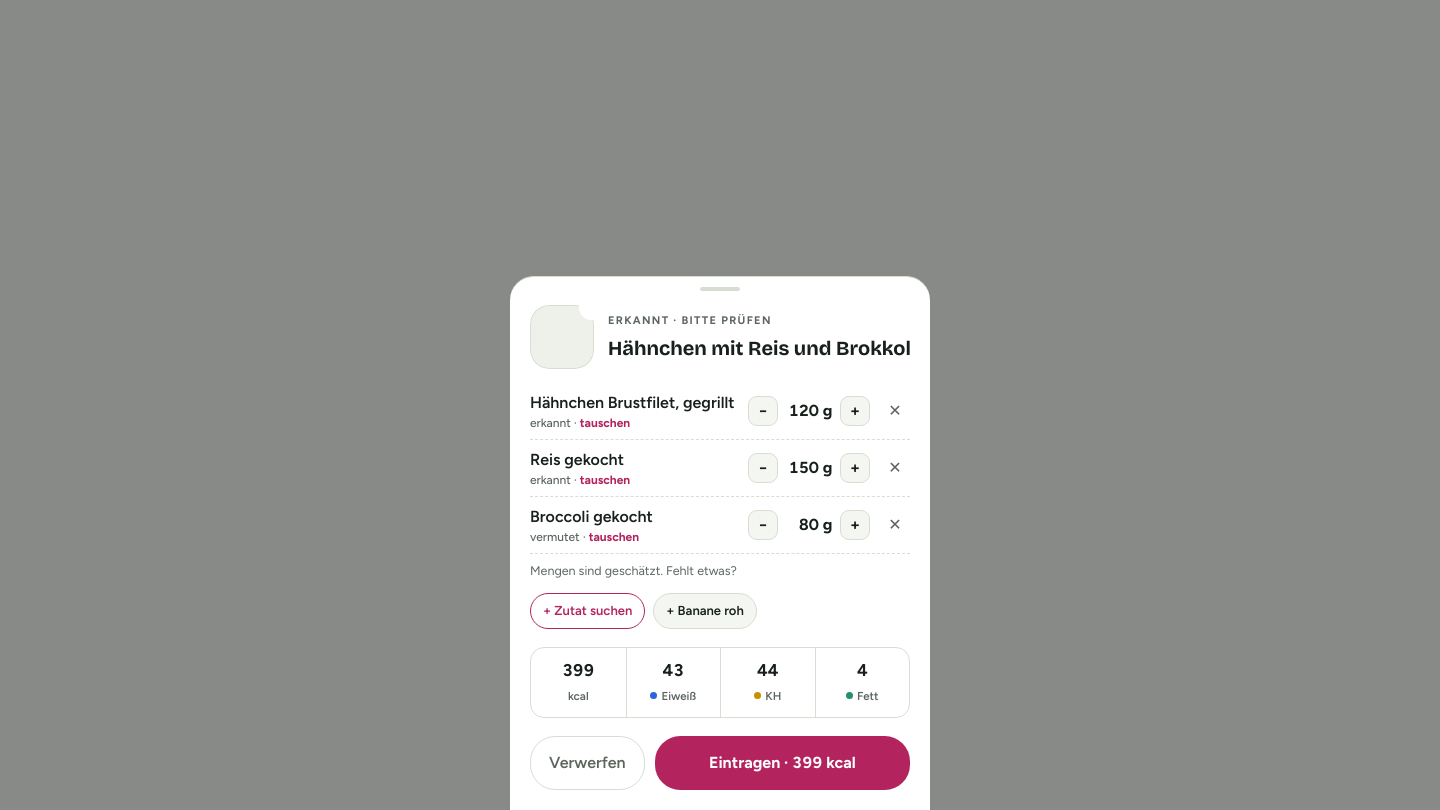
suggestions are the recent foods not yet on the plate; a tap adds one with its standard serving
This screenshot has width=1440, height=810.
Click the button "+ Banane roh". click: (705, 611)
box: [653,593,757,628]
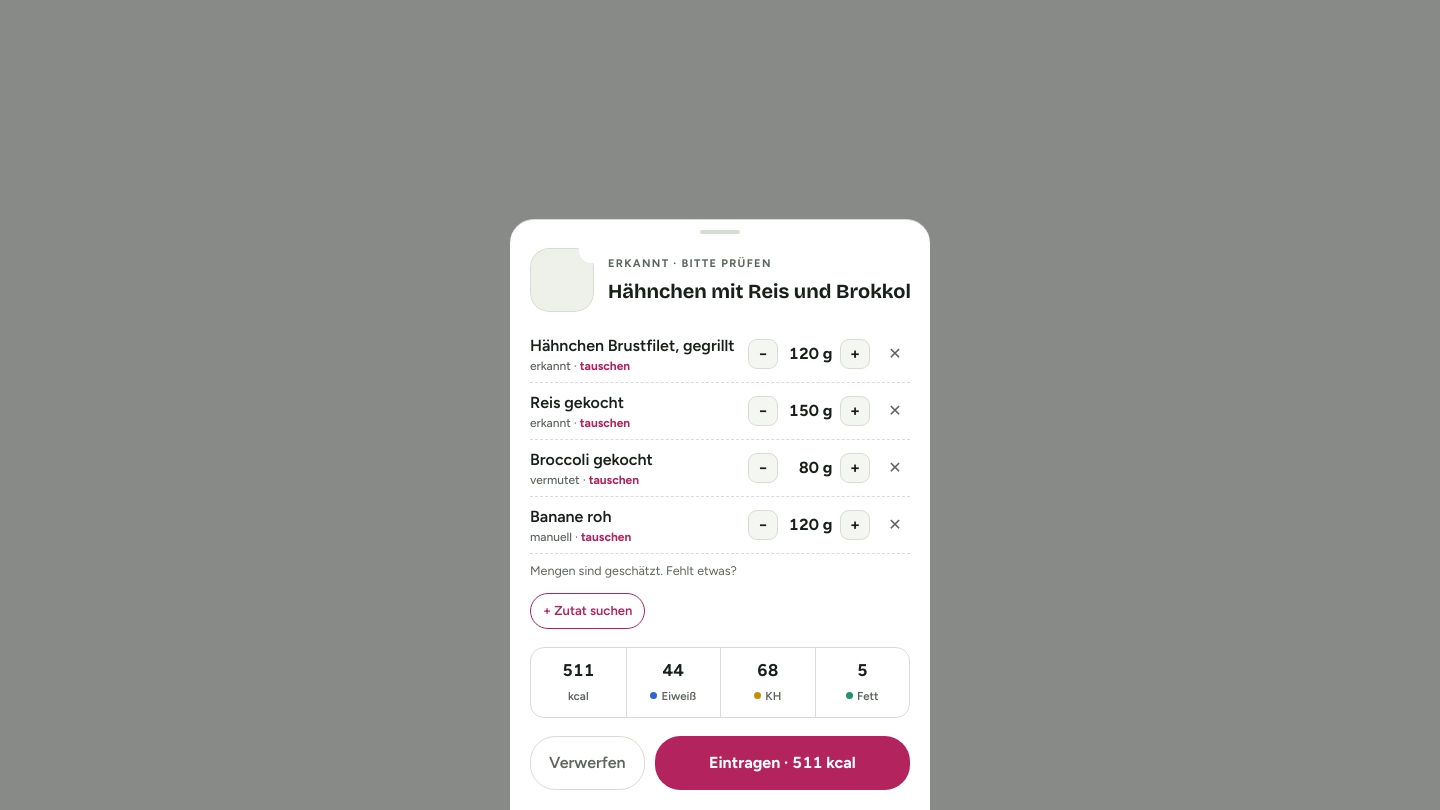
Check: the number field labelled "g" in the row of "Banane roh" holds "120", box [786,513,819,537]
Check: the text "manuell" is shown, box [530,530,572,544]
Check: the buttons read "+ Zutat suchen", in this order, box [530,593,645,628]
